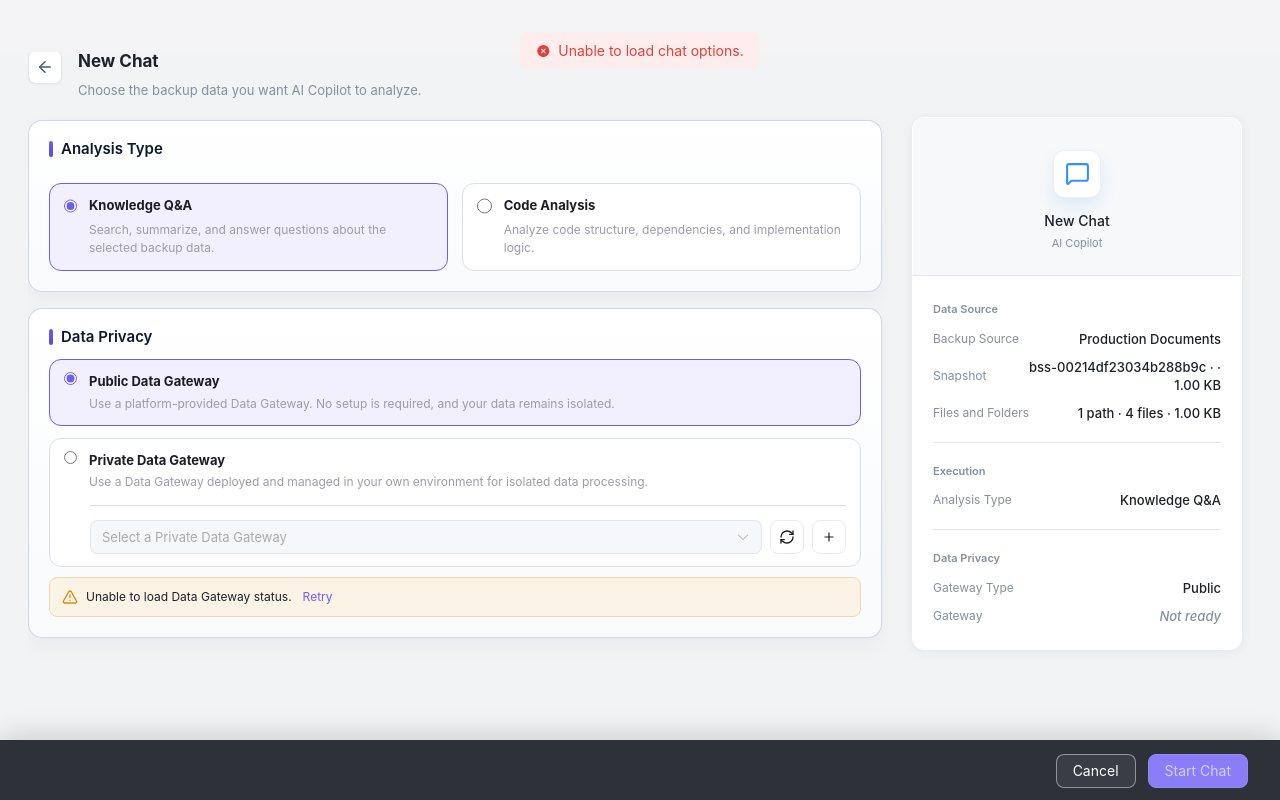
Test: New Chat Public Data Gateway warning › shows request errors separately from empty results and retries only Gateway options
(page scrolled)
expect the message with class "new-chat-gateway-warning" shows "Unable to load Data Gateway status.": met, box [86,589,292,604]
Click the button "Retry" at (318, 597), box [300,588,336,606]
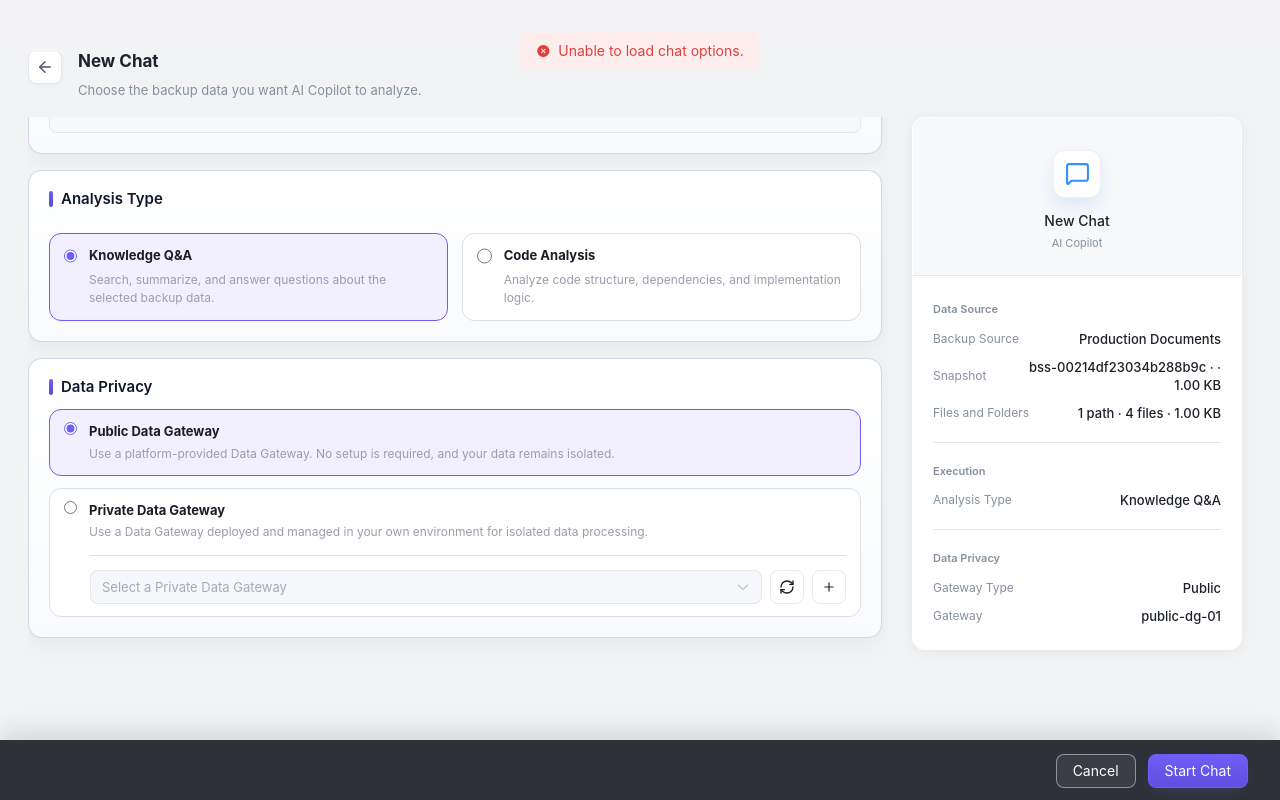
expect the button "Start Chat" is enabled: met, box [1148,754,1248,788]
